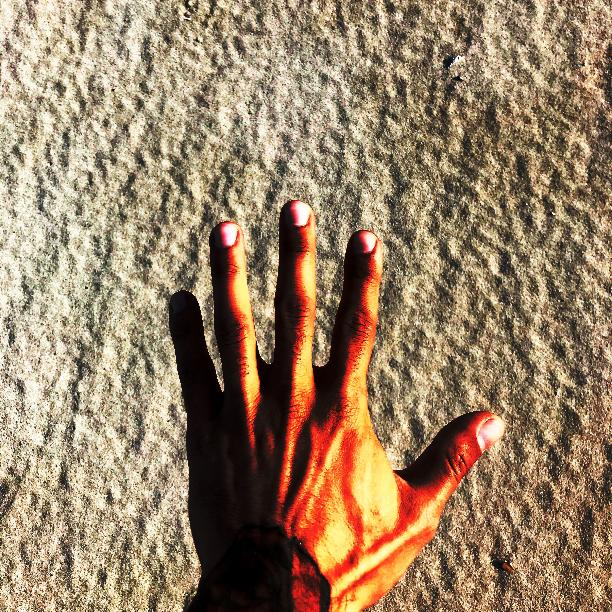Paper: (166, 196, 501, 571)
